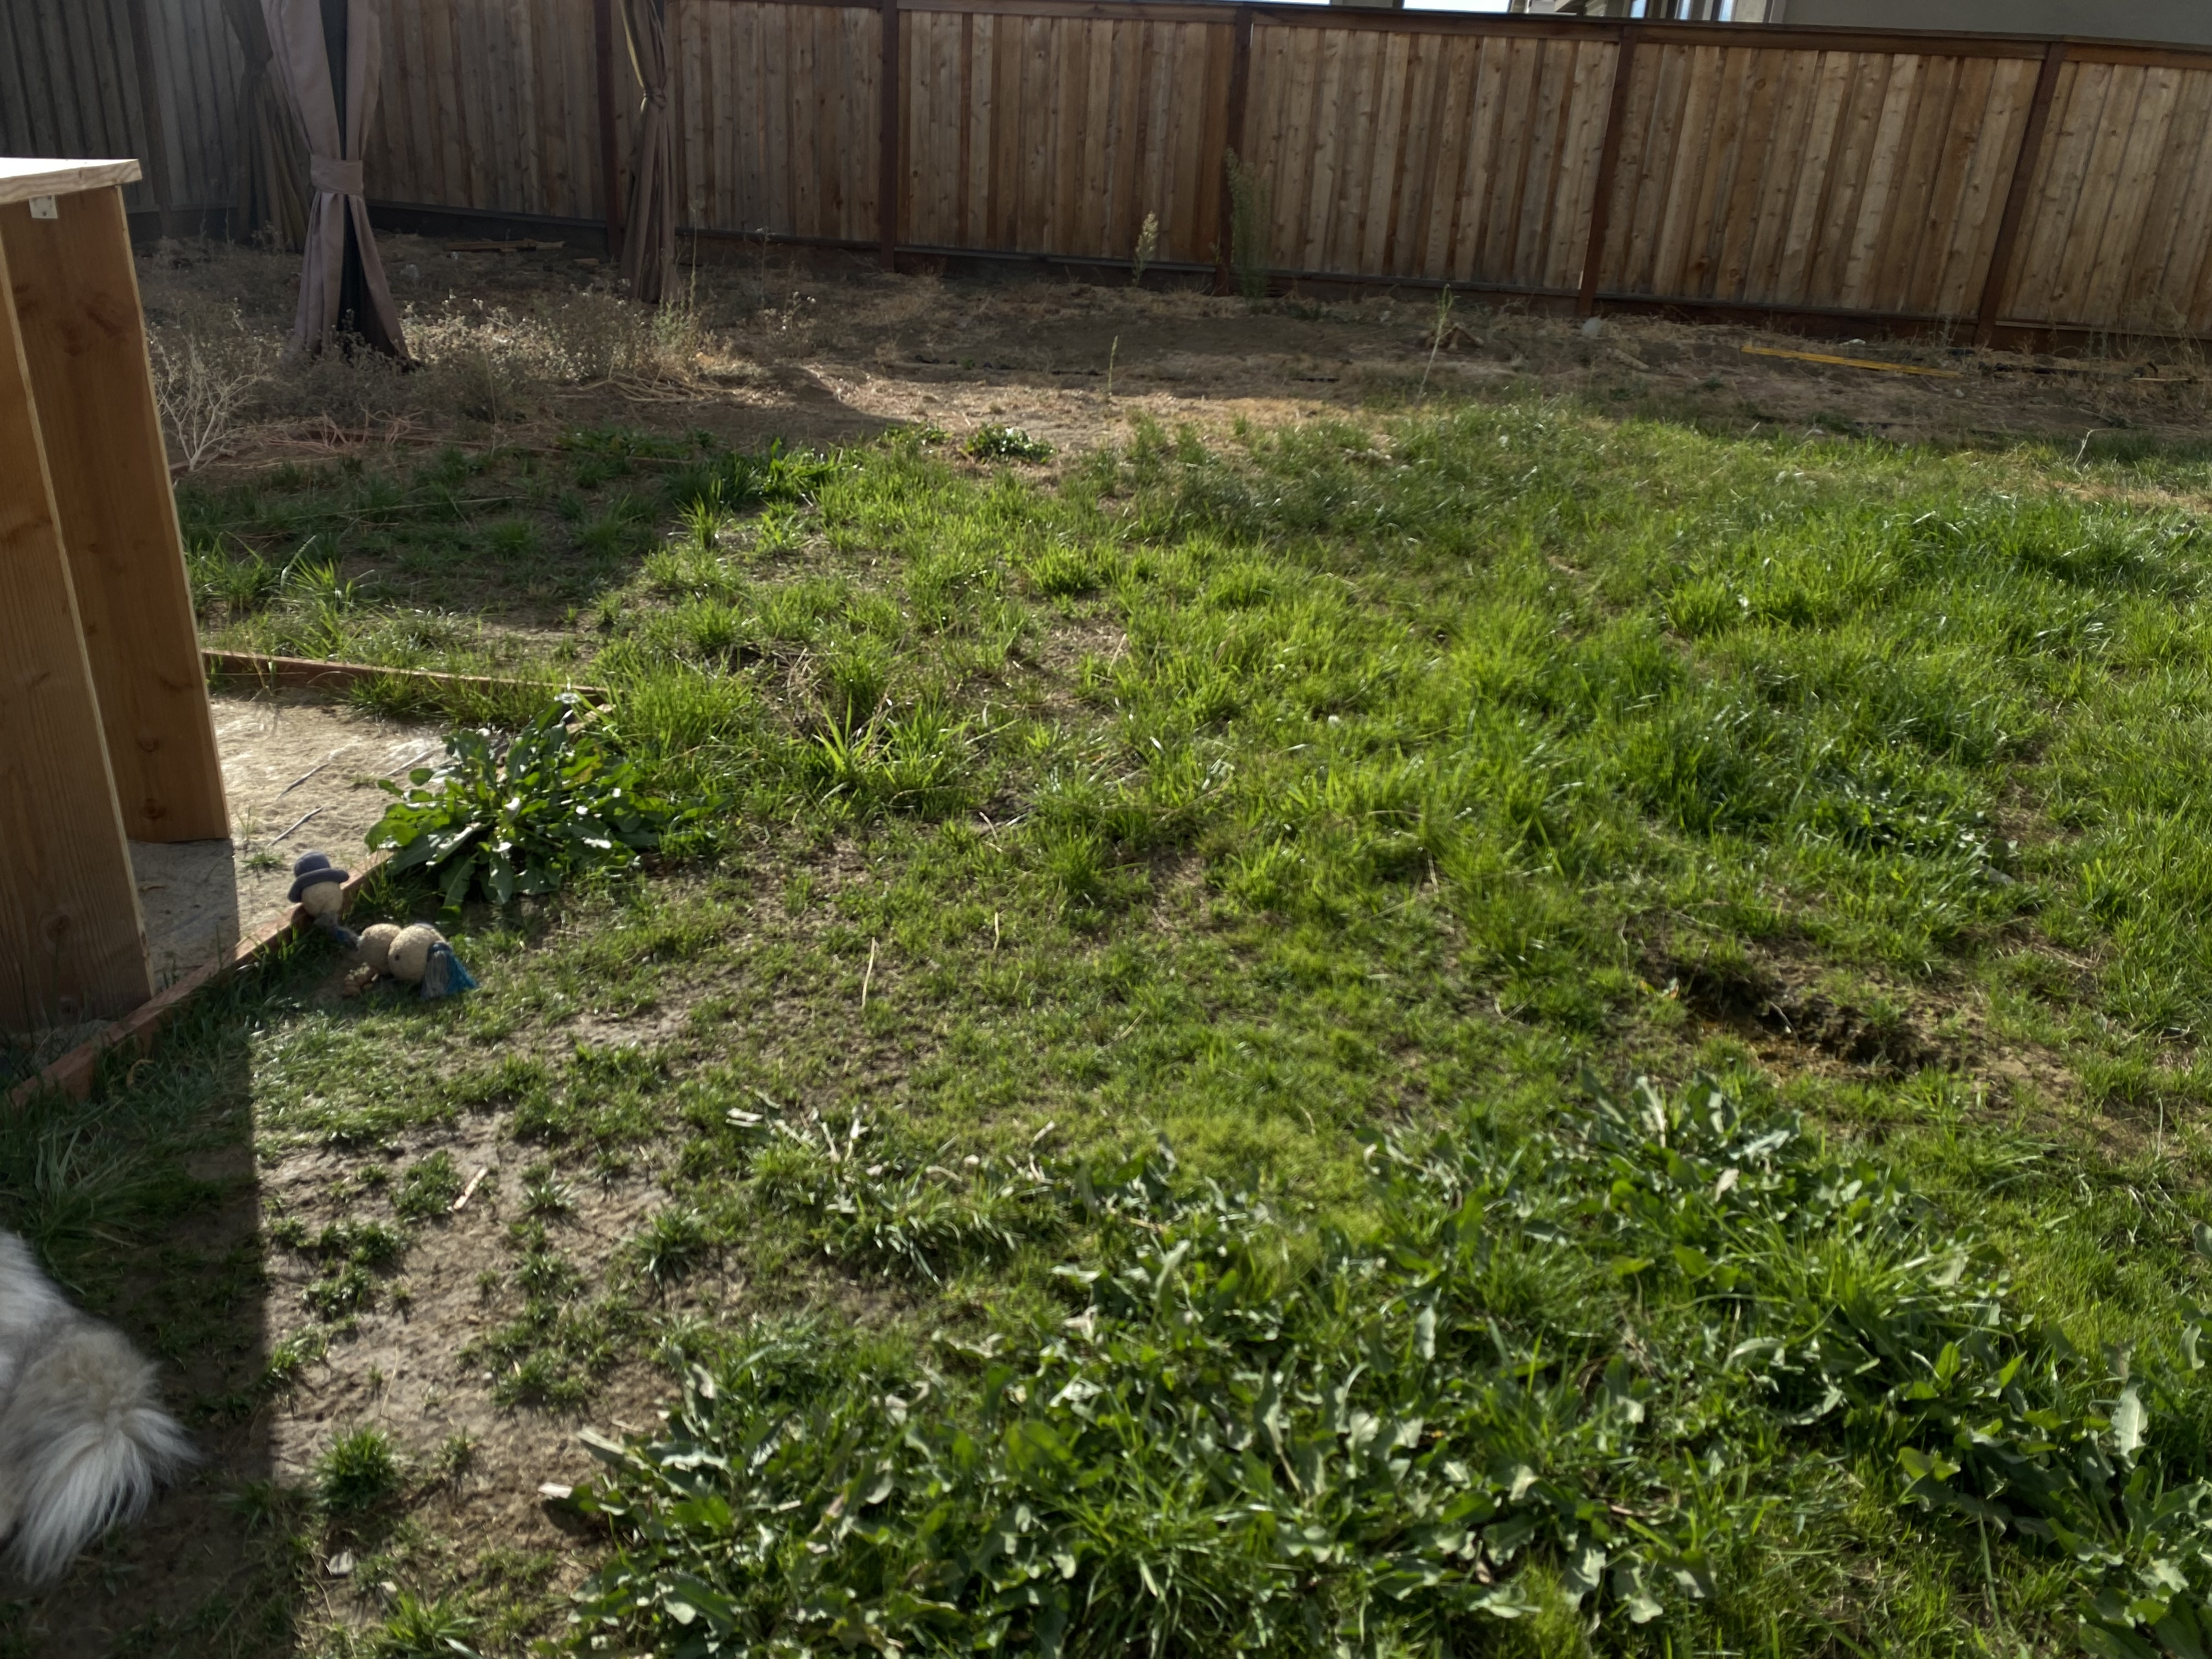weed: (1151, 1359, 1541, 1621), (536, 1371, 963, 1596), (1918, 1363, 2212, 1593), (1689, 1223, 2048, 1399), (1540, 1044, 1832, 1222), (376, 706, 650, 884), (744, 1108, 991, 1249)
